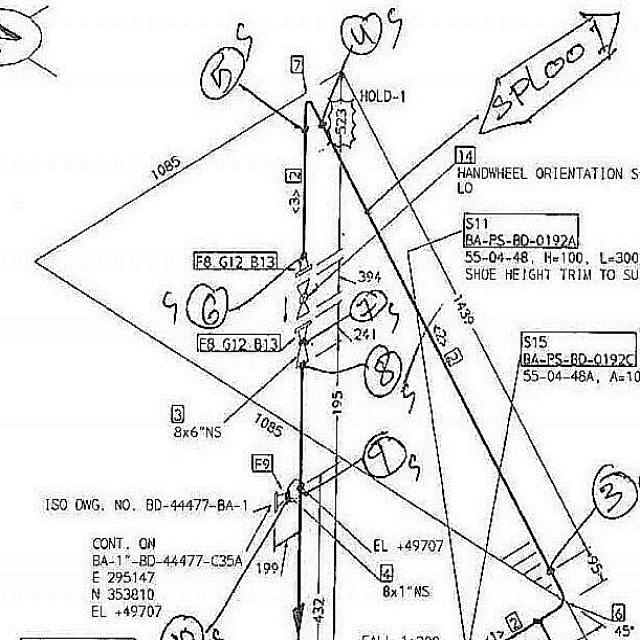Item number: (461, 208, 581, 249), (518, 327, 638, 368), (191, 248, 280, 273), (195, 330, 283, 355), (250, 451, 274, 474), (504, 607, 524, 634), (453, 142, 476, 165), (444, 345, 464, 367), (610, 599, 627, 624), (288, 51, 305, 75), (170, 401, 186, 425), (284, 165, 303, 185), (380, 561, 395, 584)
Measrement: (338, 67, 594, 553), (310, 468, 329, 639), (332, 73, 349, 255), (331, 320, 346, 467), (576, 543, 617, 590), (332, 263, 388, 297), (330, 316, 383, 347), (249, 401, 288, 442), (146, 148, 188, 185), (381, 583, 434, 604), (172, 423, 225, 441), (257, 556, 287, 581), (615, 621, 637, 639)
Pipeline: (295, 92, 571, 639), (290, 366, 312, 639)
Symbol: (300, 93, 331, 139), (271, 477, 306, 516), (293, 320, 314, 374), (293, 272, 314, 325), (288, 252, 313, 280)
Weld number: (1, 1, 53, 73), (589, 460, 639, 524), (197, 42, 247, 105), (361, 342, 405, 402), (360, 428, 410, 480), (338, 8, 385, 59), (183, 279, 229, 331), (348, 286, 392, 324), (158, 612, 207, 639)
other: (89, 533, 238, 619), (519, 321, 639, 385), (462, 248, 639, 290), (457, 164, 638, 196), (38, 490, 254, 514), (374, 536, 444, 557), (381, 582, 436, 603), (353, 628, 443, 639)
